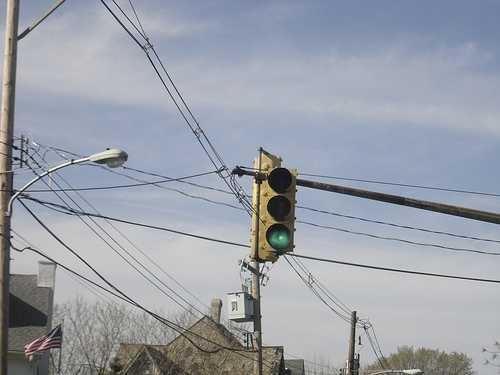green: (259, 165, 297, 251), (261, 220, 294, 253)
